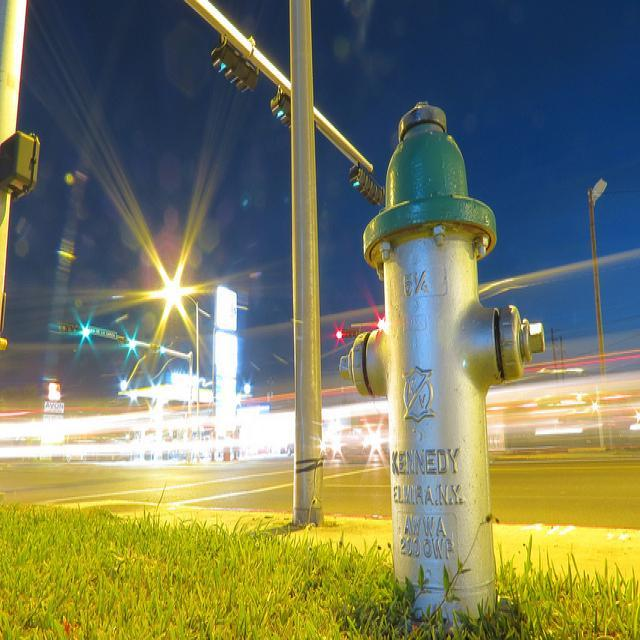fire_hydrant: (337, 102, 548, 613)
